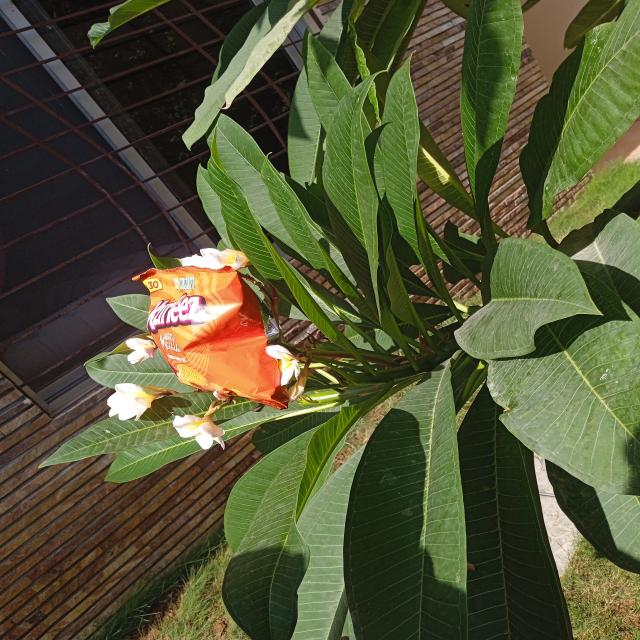Plastic: (146, 270, 294, 404)
